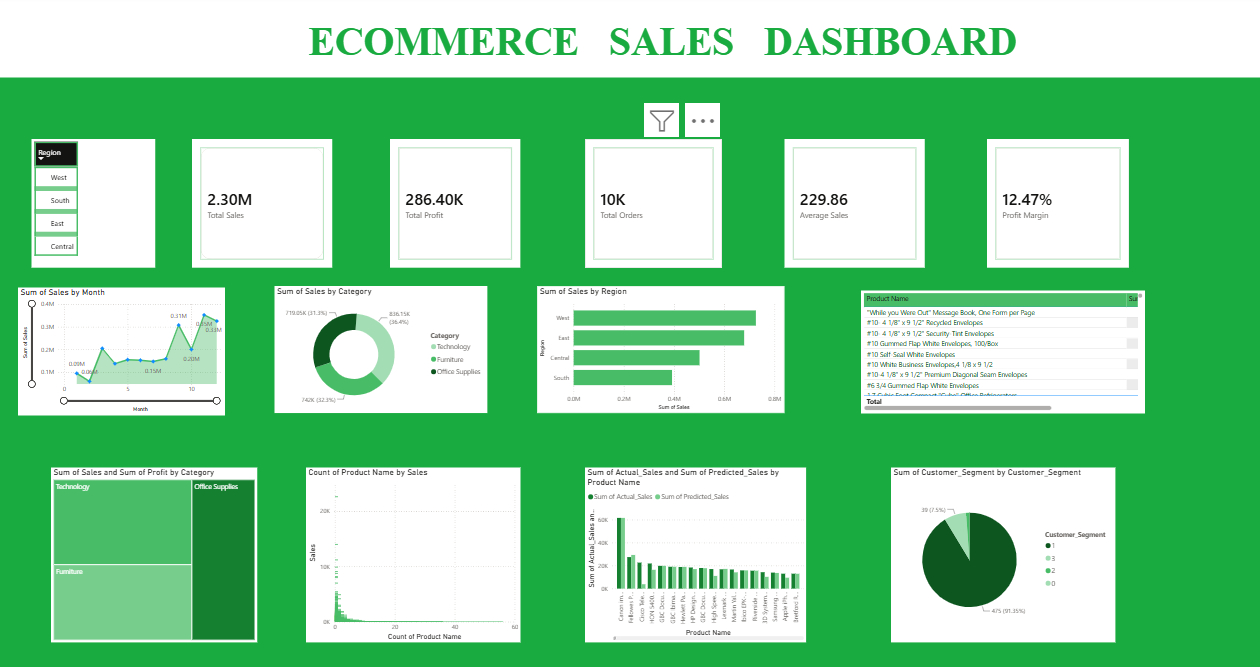

This screenshot's page, from the dashboard's own definition file:
{"tool":"powerbi","page":{"name":"Page 1","canvas":[2560,1440],"ordinal":0},"visuals":[{"type":"cardVisual","fields":{"Data":["superstore_dashboard_data.Total Sales"]},"box":[393.3,290,283.3,260],"z":0},{"type":"cardVisual","fields":{"Data":["superstore_dashboard_data.Total Profit"]},"box":[793.3,290,263.3,260],"z":1000},{"type":"cardVisual","fields":{"Data":["superstore_dashboard_data.Total Orders"]},"box":[1186.7,290,276.7,260],"z":2000},{"type":"cardVisual","fields":{"Data":["superstore_dashboard_data.Average Sales"]},"box":[1590,290,283.3,260],"z":3000},{"type":"cardVisual","fields":{"Data":["superstore_dashboard_data.Profit Margin"]},"box":[2000,290,286.7,260],"z":4000},{"type":"tableEx","fields":{"Values":["superstore_dashboard_data.Region"]},"box":[70,290,250,260],"z":5000},{"type":"lineChart","fields":{"Category":["superstore_dashboard_data.Month"],"Y":["Sum(superstore_dashboard_data.Sales)"]},"box":[43.3,590,416.7,256.7],"z":6000},{"type":"donutChart","fields":{"Category":["superstore_dashboard_data.Category"],"Y":["Sum(superstore_dashboard_data.Sales)"]},"box":[560,586.7,430,256.7],"z":7000},{"type":"clusteredBarChart","fields":{"Category":["superstore_dashboard_data.Region"],"Y":["Sum(superstore_dashboard_data.Sales)"]},"box":[1090,586.7,500,256.7],"z":8000},{"type":"treemap","fields":{"Group":["superstore_dashboard_data.Category"],"Values":["Sum(superstore_dashboard_data.Sales)"]},"box":[110,953.3,416.7,353.3],"z":9000},{"type":"barChart","fields":{"Category":["superstore_dashboard_data.Sales"],"Y":["CountNonNull(superstore_dashboard_data.Product Name)"]},"box":[623.3,953.3,433.3,353.3],"z":10000},{"type":"clusteredColumnChart","fields":{"Category":["superstore_dashboard_data (1).Product Name"],"Y":["Sum(superstore_dashboard_data (1).Actual_Sales)","Sum(superstore_dashboard_data (1).Predicted_Sales)"]},"box":[1186.7,953.3,446.7,353.3],"z":11000},{"type":"pieChart","fields":{"Category":["superstore_dashboard_data (1).Customer_Segment"],"Y":["Sum(superstore_dashboard_data (1).Customer_Segment)"]},"box":[1806.7,953.3,453.3,353.3],"z":12000},{"type":"tableEx","fields":{"Values":["superstore_dashboard_data (1).Product Name","Sum(superstore_dashboard_data (1).Predicted_Sales)","Sum(superstore_dashboard_data (1).Actual_Sales)"]},"box":[1746.7,596.7,573.3,246.7],"z":13000},{"type":"textbox","box":[0,0,2560,166.7],"z":14000}]}

Visuals, with their boxes on the page's 2560x1440 design canvas (x1, y1, x2, y2). These are canvas units, not pixel positions in the 1260x667 screenshot, which may show the page scaled, cropped or inside an application window:
cardVisual - superstore_dashboard_data.Total Sales: locate(393, 290, 677, 550)
cardVisual - superstore_dashboard_data.Total Profit: locate(793, 290, 1057, 550)
cardVisual - superstore_dashboard_data.Total Orders: locate(1187, 290, 1463, 550)
cardVisual - superstore_dashboard_data.Average Sales: locate(1590, 290, 1873, 550)
cardVisual - superstore_dashboard_data.Profit Margin: locate(2000, 290, 2287, 550)
tableEx - superstore_dashboard_data.Region: locate(70, 290, 320, 550)
lineChart - superstore_dashboard_data.Month x Sum(superstore_dashboard_data.Sales): locate(43, 590, 460, 847)
donutChart - superstore_dashboard_data.Category x Sum(superstore_dashboard_data.Sales): locate(560, 587, 990, 843)
clusteredBarChart - superstore_dashboard_data.Region x Sum(superstore_dashboard_data.Sales): locate(1090, 587, 1590, 843)
treemap - superstore_dashboard_data.Category x Sum(superstore_dashboard_data.Sales): locate(110, 953, 527, 1307)
barChart - superstore_dashboard_data.Sales x CountNonNull(superstore_dashboard_data.Product Name): locate(623, 953, 1057, 1307)
clusteredColumnChart - superstore_dashboard_data (1).Product Name x Sum(superstore_dashboard_data (1).Actual_Sales): locate(1187, 953, 1633, 1307)
pieChart - superstore_dashboard_data (1).Customer_Segment x Sum(superstore_dashboard_data (1).Customer_Segment): locate(1807, 953, 2260, 1307)
tableEx - superstore_dashboard_data (1).Product Name x Sum(superstore_dashboard_data (1).Predicted_Sales): locate(1747, 597, 2320, 843)
textbox: locate(0, 0, 2560, 167)
